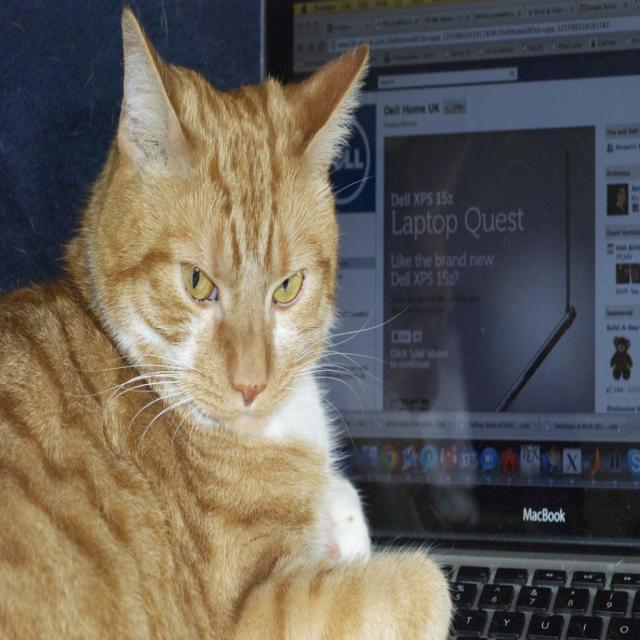Cat: (0, 5, 461, 638)
